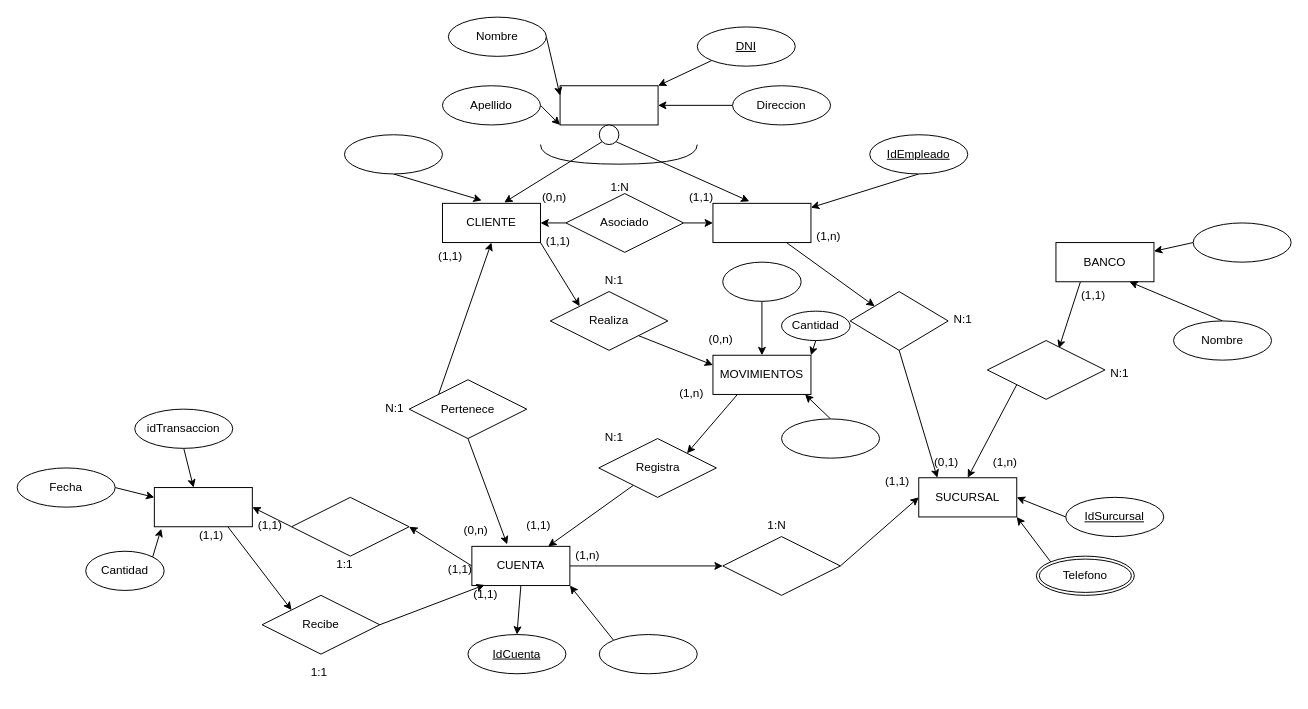
Some shapes in this 1308 by 709 pixel diagram are drawn without their labels. Here are the shapes that lost their labels. From the top down, the box of each, then its label:
(559, 85, 658, 125): PERSONA
(343, 134, 442, 174): IdCliente
(712, 202, 811, 243): EMPLEADO
(1192, 222, 1291, 262): CIF
(722, 261, 801, 301): idMovimiento
(849, 291, 948, 350): Trabaja
(986, 340, 1105, 399): Tiene
(781, 418, 880, 458): FechaMovimiento
(153, 487, 252, 527): TRANSACCION
(291, 496, 409, 556): Envia
(722, 536, 840, 595): Asociada
(598, 634, 697, 674): IBAN
